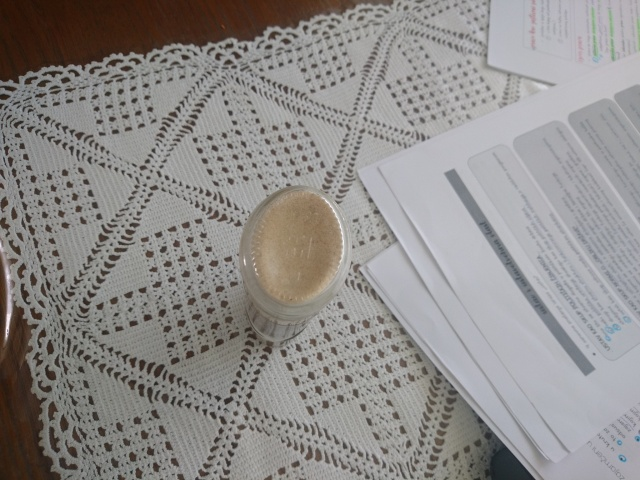Kotanyi Garlic Granules 70g: (234, 183, 356, 351)
